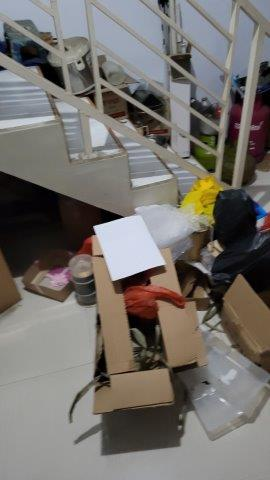kertas: (92, 214, 166, 281)
